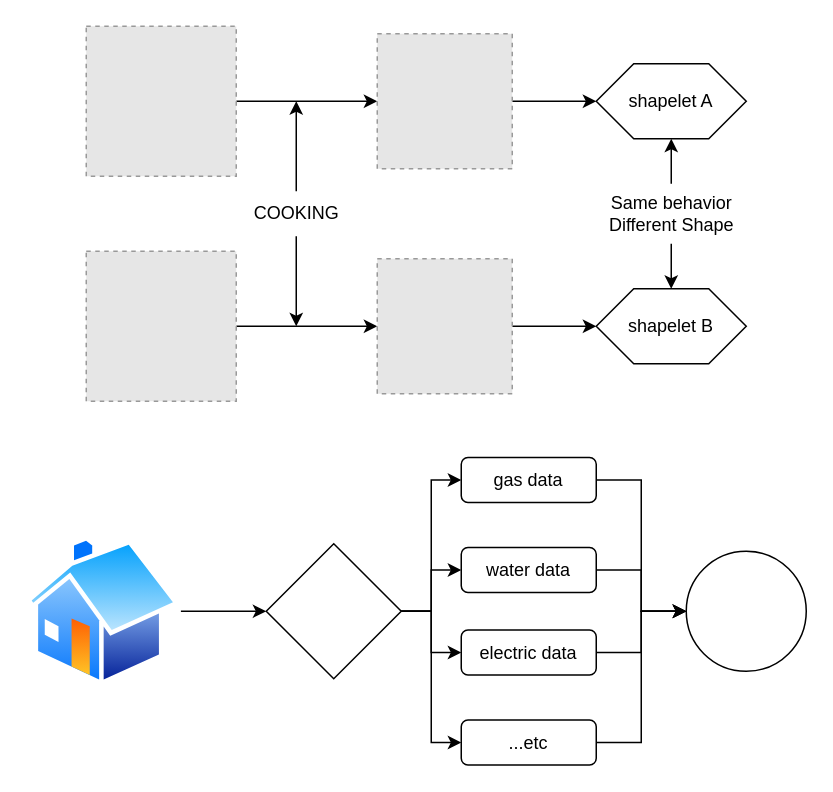
Some shapes in this 833 by 792 pixel diagram are drawn without their labels. Grey dashed boxes stand in for pictures. The box of each missing label's shape, as (x1, y1, x2, y2) in pixels:
daily behavior: (265, 542, 401, 679)
Same behavior pattern: (685, 550, 806, 671)
